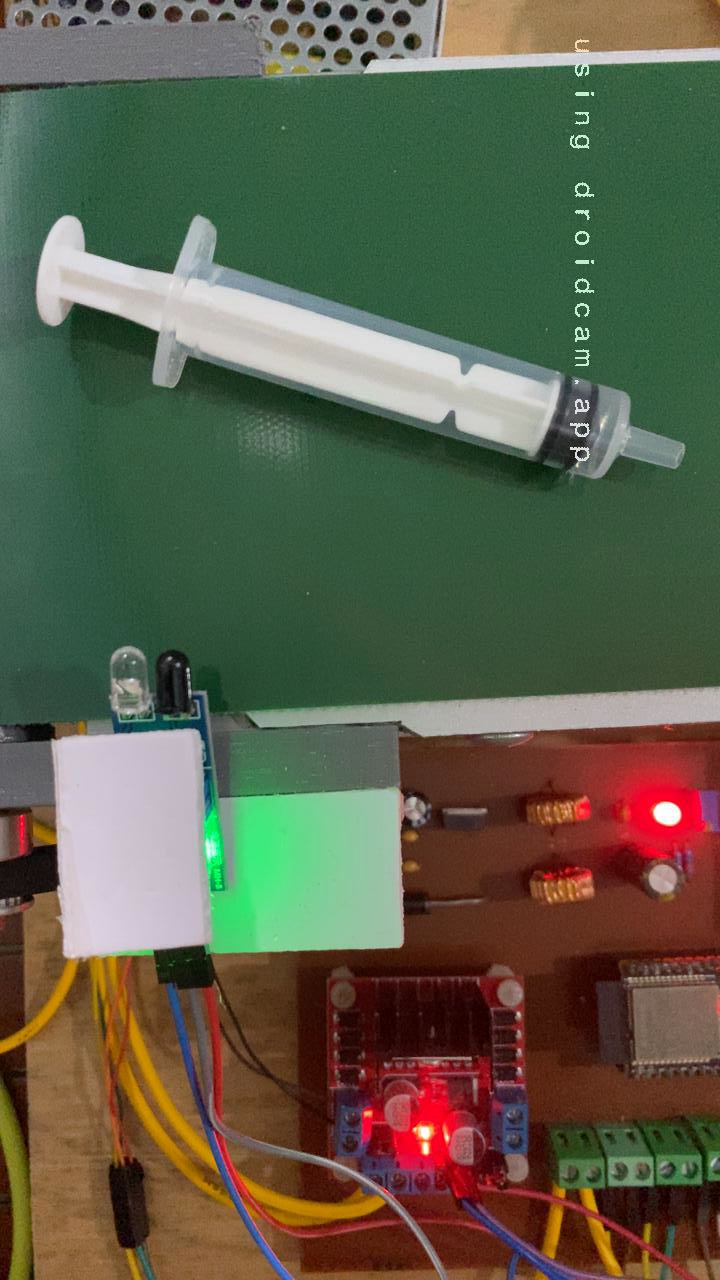syringe: (28, 209, 657, 488)
